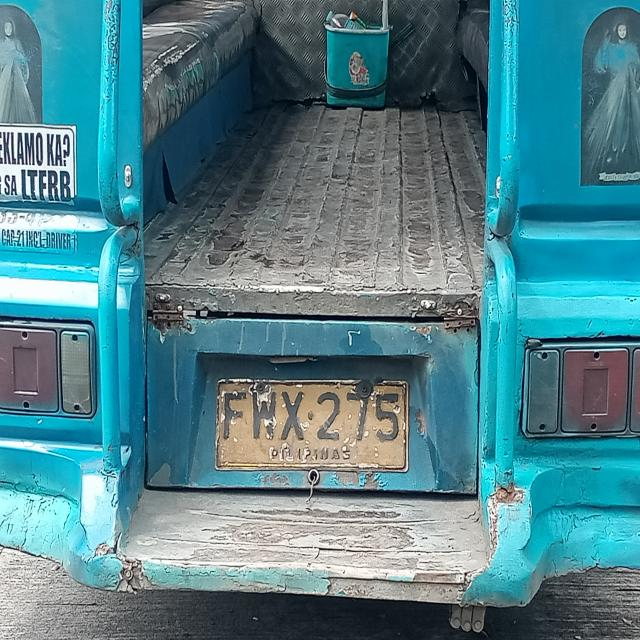plate: (212, 374, 412, 477)
